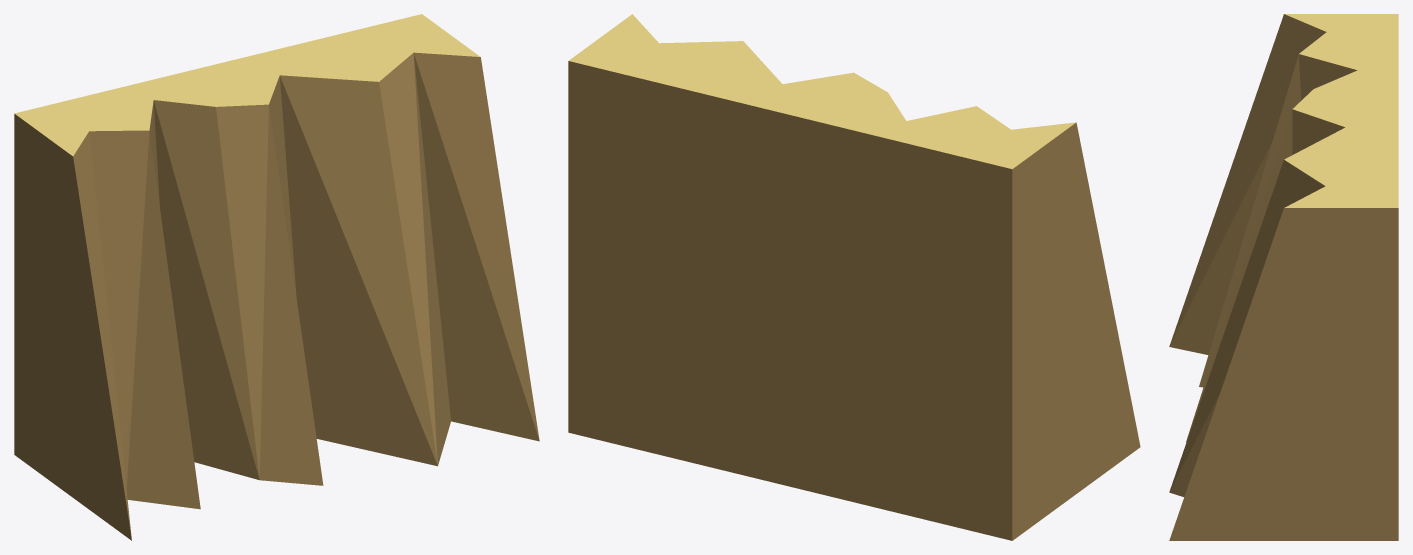
File: Terrain_Modular_Tiles_Sand_Dirt_Cliff_Side_Outer_02.fbx
3 renders of one model, left to right at view 1: azimuth 30°, elevation 25°; view 2: azimuth 150°, elevation 25°; view 3: azimuth 270°, elevation 25°, orthographic. The views are drawn at different scales.
Visible parts, largest first — view 1: Terrain_Modular_Tiles_Sand_Dirt_Cliff_Side_Outer_02; view 2: Terrain_Modular_Tiles_Sand_Dirt_Cliff_Side_Outer_02; view 3: Terrain_Modular_Tiles_Sand_Dirt_Cliff_Side_Outer_02.
Part boxes in pixels (box(x1,y1,x2,y2)): Terrain_Modular_Tiles_Sand_Dirt_Cliff_Side_Outer_02: box(14, 14, 539, 540); Terrain_Modular_Tiles_Sand_Dirt_Cliff_Side_Outer_02: box(568, 14, 1140, 540); Terrain_Modular_Tiles_Sand_Dirt_Cliff_Side_Outer_02: box(1169, 14, 1398, 540).
Size of the model in its own units: 3000 by 2400 by 1500.
